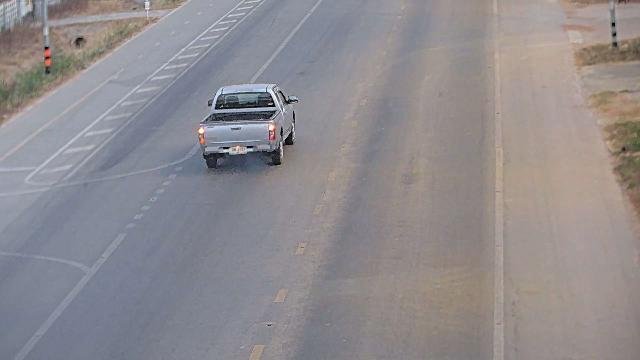pickup-truck: (197, 82, 298, 169)
